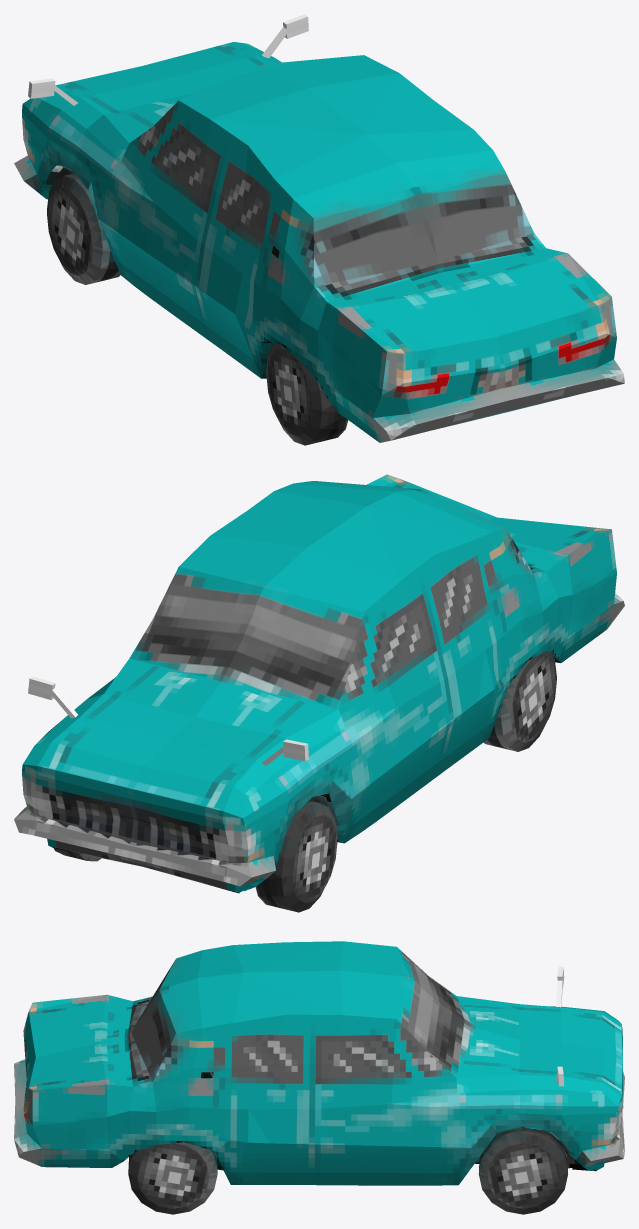
The model's file is CLASSIC.fbx.
The picture shows the model from 3 angles, top to bottom: view 1: azimuth 30°, elevation 25°; view 2: azimuth 150°, elevation 25°; view 3: azimuth 270°, elevation 25°; orthographic projection. The views are drawn at different scales.
Parts seen in each view (by area): view 1: BSurfaceMesh; view 2: BSurfaceMesh; view 3: BSurfaceMesh.
Part boxes in pixels (left/top/right/bottom): BSurfaceMesh: left=14, top=14, right=624, bottom=445; BSurfaceMesh: left=14, top=474, right=624, bottom=912; BSurfaceMesh: left=14, top=941, right=624, bottom=1214.
Bounding box in the file's own units: 253 × 216 × 604.
1 material, 1 textured.
